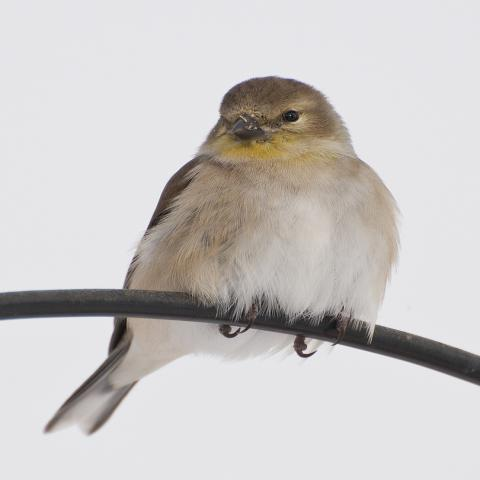bird: (41, 74, 403, 436)
